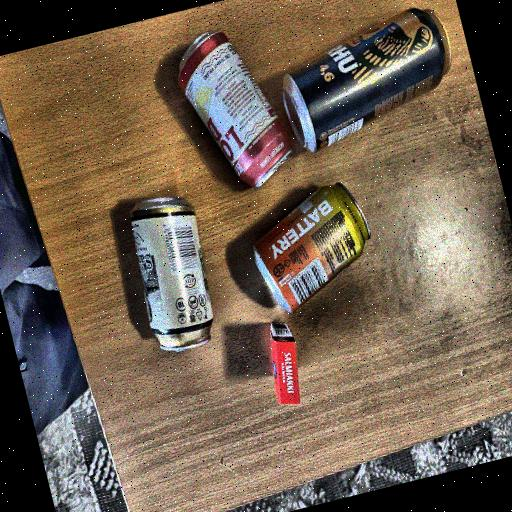karhu: (270, 0, 473, 166)
koff: (170, 13, 295, 192)
sandels: (106, 174, 242, 384)
